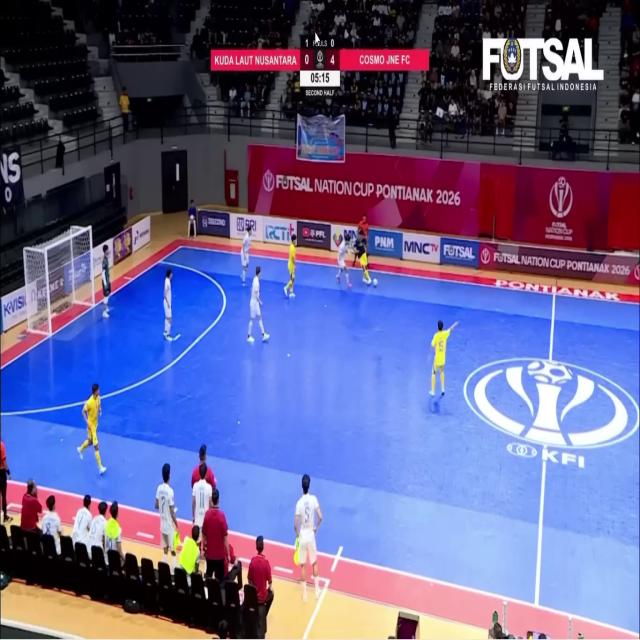keeper: (102, 245, 111, 318)
official: (248, 536, 274, 638), (202, 490, 229, 583), (21, 479, 42, 532), (192, 445, 206, 488)
players: (295, 475, 322, 601), (77, 384, 106, 474), (156, 464, 178, 573), (430, 320, 458, 396), (248, 266, 269, 343), (193, 463, 212, 528), (42, 495, 61, 555), (87, 502, 107, 555), (72, 495, 92, 544), (284, 234, 297, 298), (337, 237, 351, 287), (241, 226, 251, 285), (164, 268, 172, 340), (358, 244, 372, 284)
referee: (0, 440, 12, 522), (353, 215, 368, 267)
